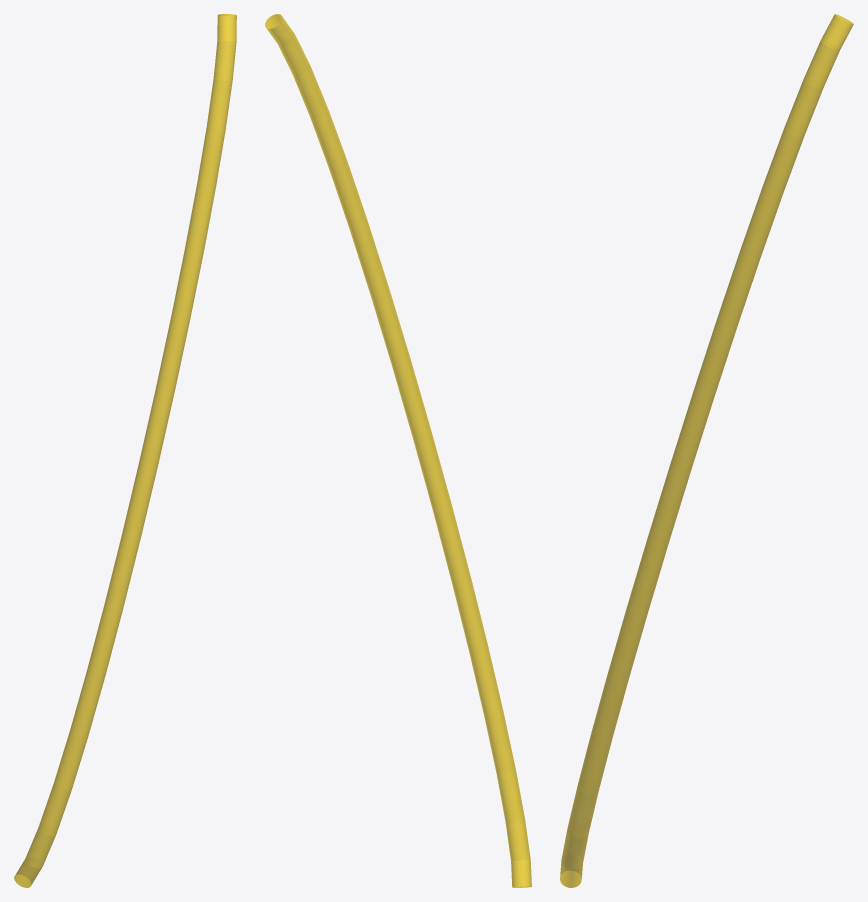
File: Event_17758602_track_173.fbx
The picture shows the model from 3 angles, left to right: view 1: azimuth 30°, elevation 25°; view 2: azimuth 150°, elevation 25°; view 3: azimuth 330°, elevation 25°; orthographic projection. The views are drawn at different scales.
Parts seen in each view (by area): view 1: Model; view 2: Model; view 3: Model.
Part boxes in pixels (x1=…): Model: x1=14, y1=14, x2=236, y2=887; Model: x1=265, y1=14, x2=531, y2=887; Model: x1=560, y1=14, x2=853, y2=887.
Size of the model in its own units: 0.5716 by 1.85 by 0.1797.
